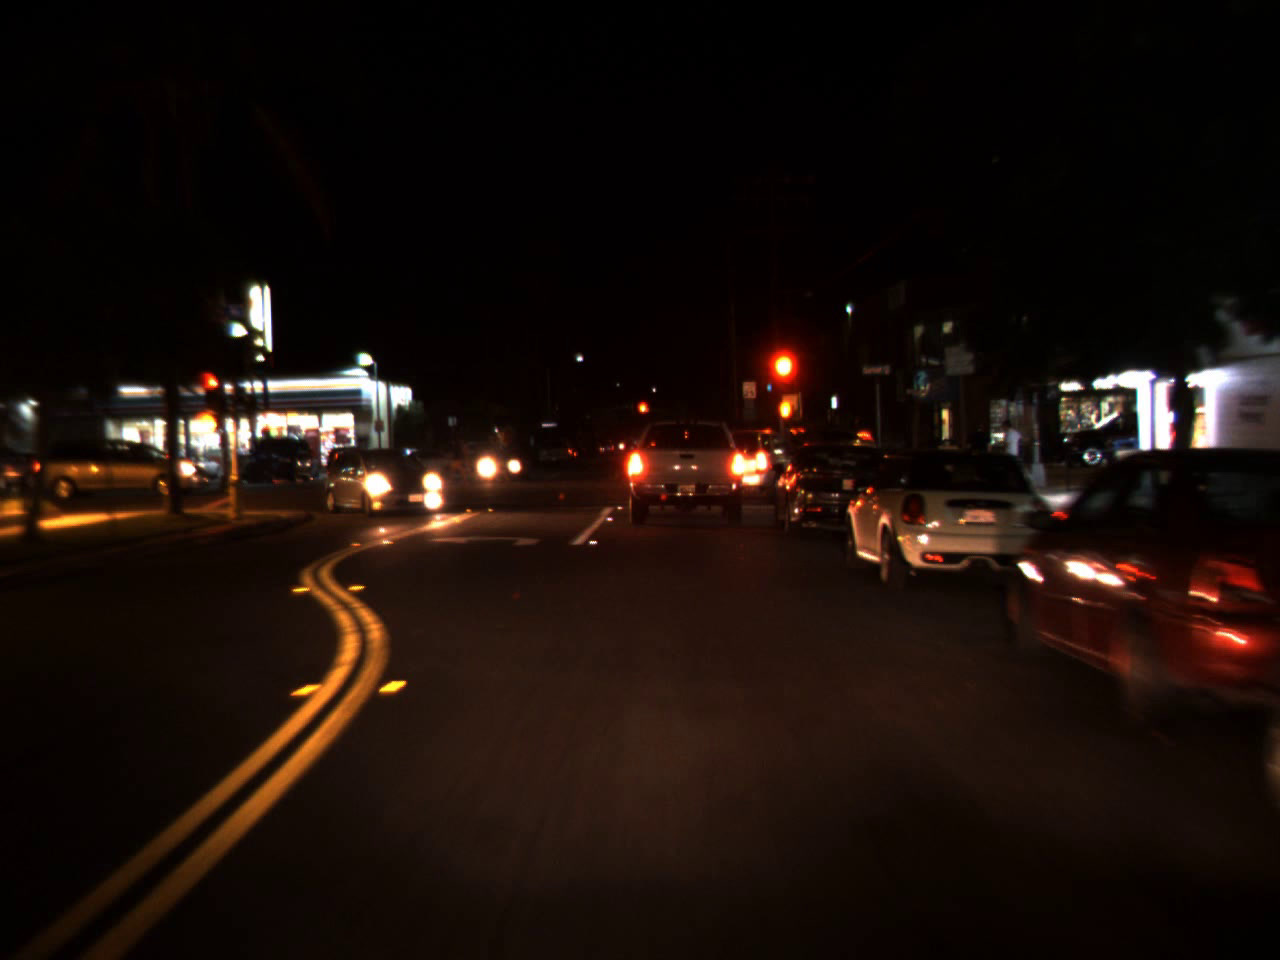stop: (766, 345, 794, 407), (200, 370, 221, 407), (636, 400, 649, 424)
